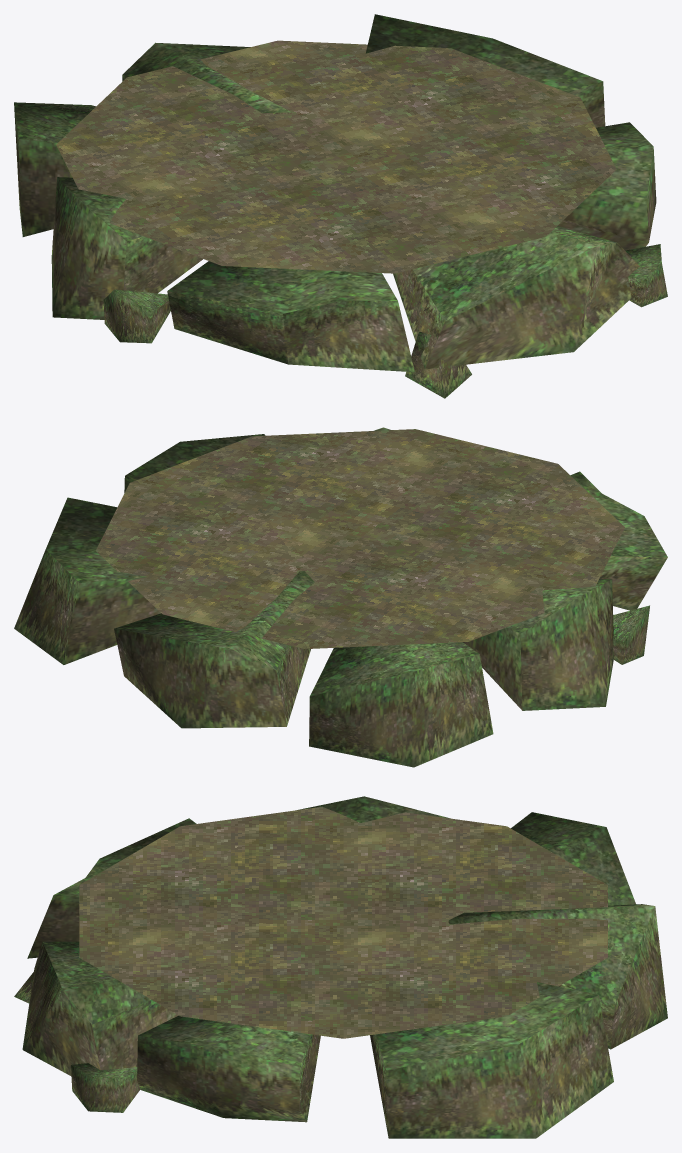
File: eff_enem_MI_rayquaza_M_ground01.obj
3 views of the same model, one above another, from view 1: azimuth 30°, elevation 25°; view 2: azimuth 150°, elevation 25°; view 3: azimuth 270°, elevation 25° (orthographic). The views are drawn at different scales.
Visible parts, largest first — view 1: polygon20, polygon7, polygon4, polygon0, polygon5, polygon6, polygon11, polygon8, polygon14, polygon12, polygon9, polygon15 (+7 smaller); view 2: polygon20, polygon14, polygon13, polygon0, polygon10, polygon12, polygon15, polygon11, polygon5, polygon4, polygon9, polygon1 (+2 smaller); view 3: polygon20, polygon10, polygon8, polygon7, polygon11, polygon12, polygon15, polygon13, polygon9, polygon6, polygon18, polygon4 (+3 smaller).
Part boxes in pixels (x1,y1,x2,y2): polygon20: (56, 40, 616, 273); polygon7: (393, 226, 639, 369); polygon4: (167, 291, 414, 372); polygon0: (51, 177, 202, 319); polygon5: (168, 261, 397, 313); polygon6: (412, 226, 616, 320); polygon11: (365, 14, 602, 92); polygon8: (558, 148, 656, 250); polygon14: (14, 104, 72, 236); polygon12: (123, 42, 292, 112); polygon9: (592, 122, 653, 198); polygon15: (14, 102, 95, 142); polygon20: (95, 429, 624, 648); polygon14: (309, 654, 493, 767); polygon13: (114, 628, 310, 728); polygon0: (463, 579, 613, 710); polygon10: (14, 549, 160, 664); polygon12: (114, 571, 314, 670); polygon15: (310, 642, 479, 695); polygon11: (46, 497, 146, 582); polygon5: (570, 471, 667, 557); polygon4: (599, 556, 667, 610); polygon9: (125, 434, 265, 479); polygon1: (507, 578, 611, 633); polygon20: (79, 806, 607, 1038); polygon10: (370, 995, 613, 1138); polygon8: (137, 1034, 320, 1122); polygon7: (22, 942, 178, 1075); polygon11: (376, 982, 597, 1070); polygon12: (449, 904, 654, 1003); polygon15: (511, 812, 635, 905); polygon13: (448, 906, 667, 1049); polygon9: (138, 1015, 310, 1066); polygon6: (43, 941, 150, 1024); polygon18: (71, 1065, 140, 1112); polygon4: (27, 895, 79, 958).
Size of the model in its own units: 61.85 by 11.76 by 62.91.
3 materials, 3 textured.
